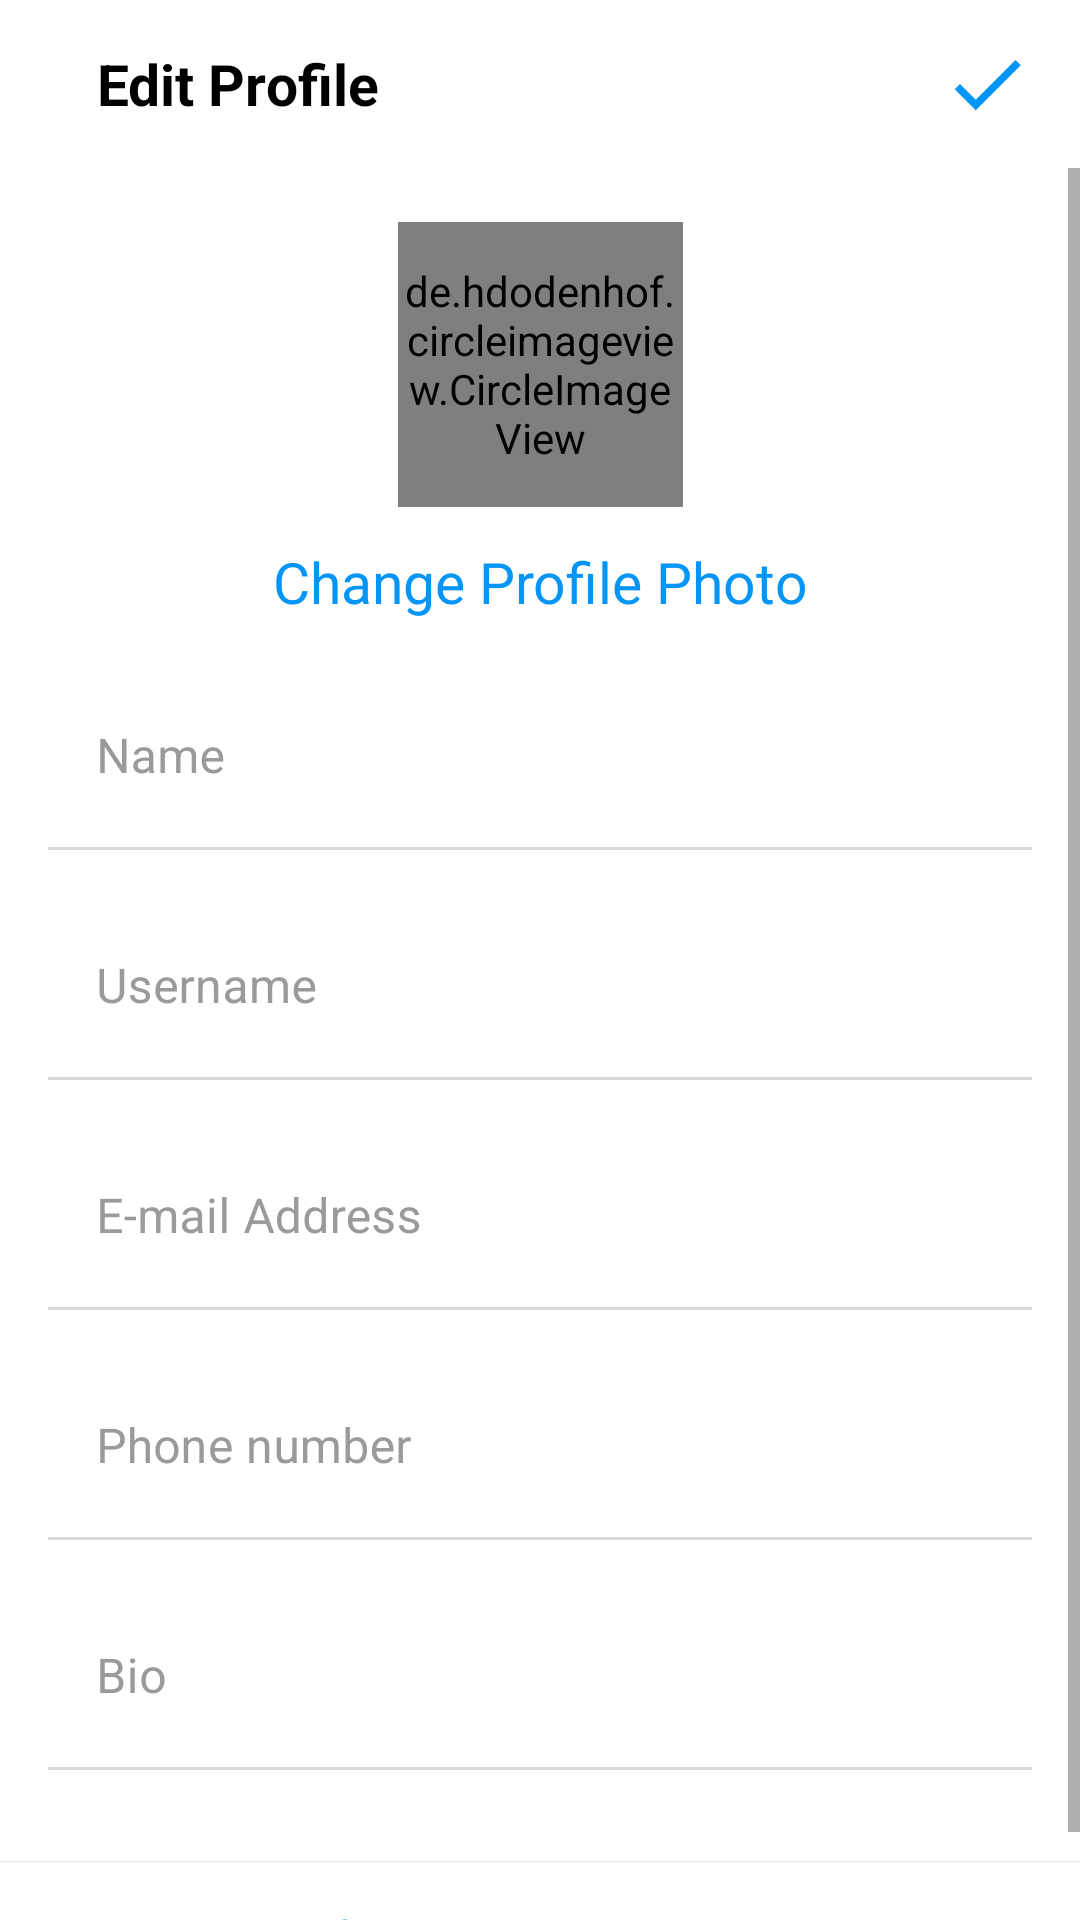

Named icons in this screenshot (1080px x 1920px) and their centers, (x,y):
done: (988,85)
